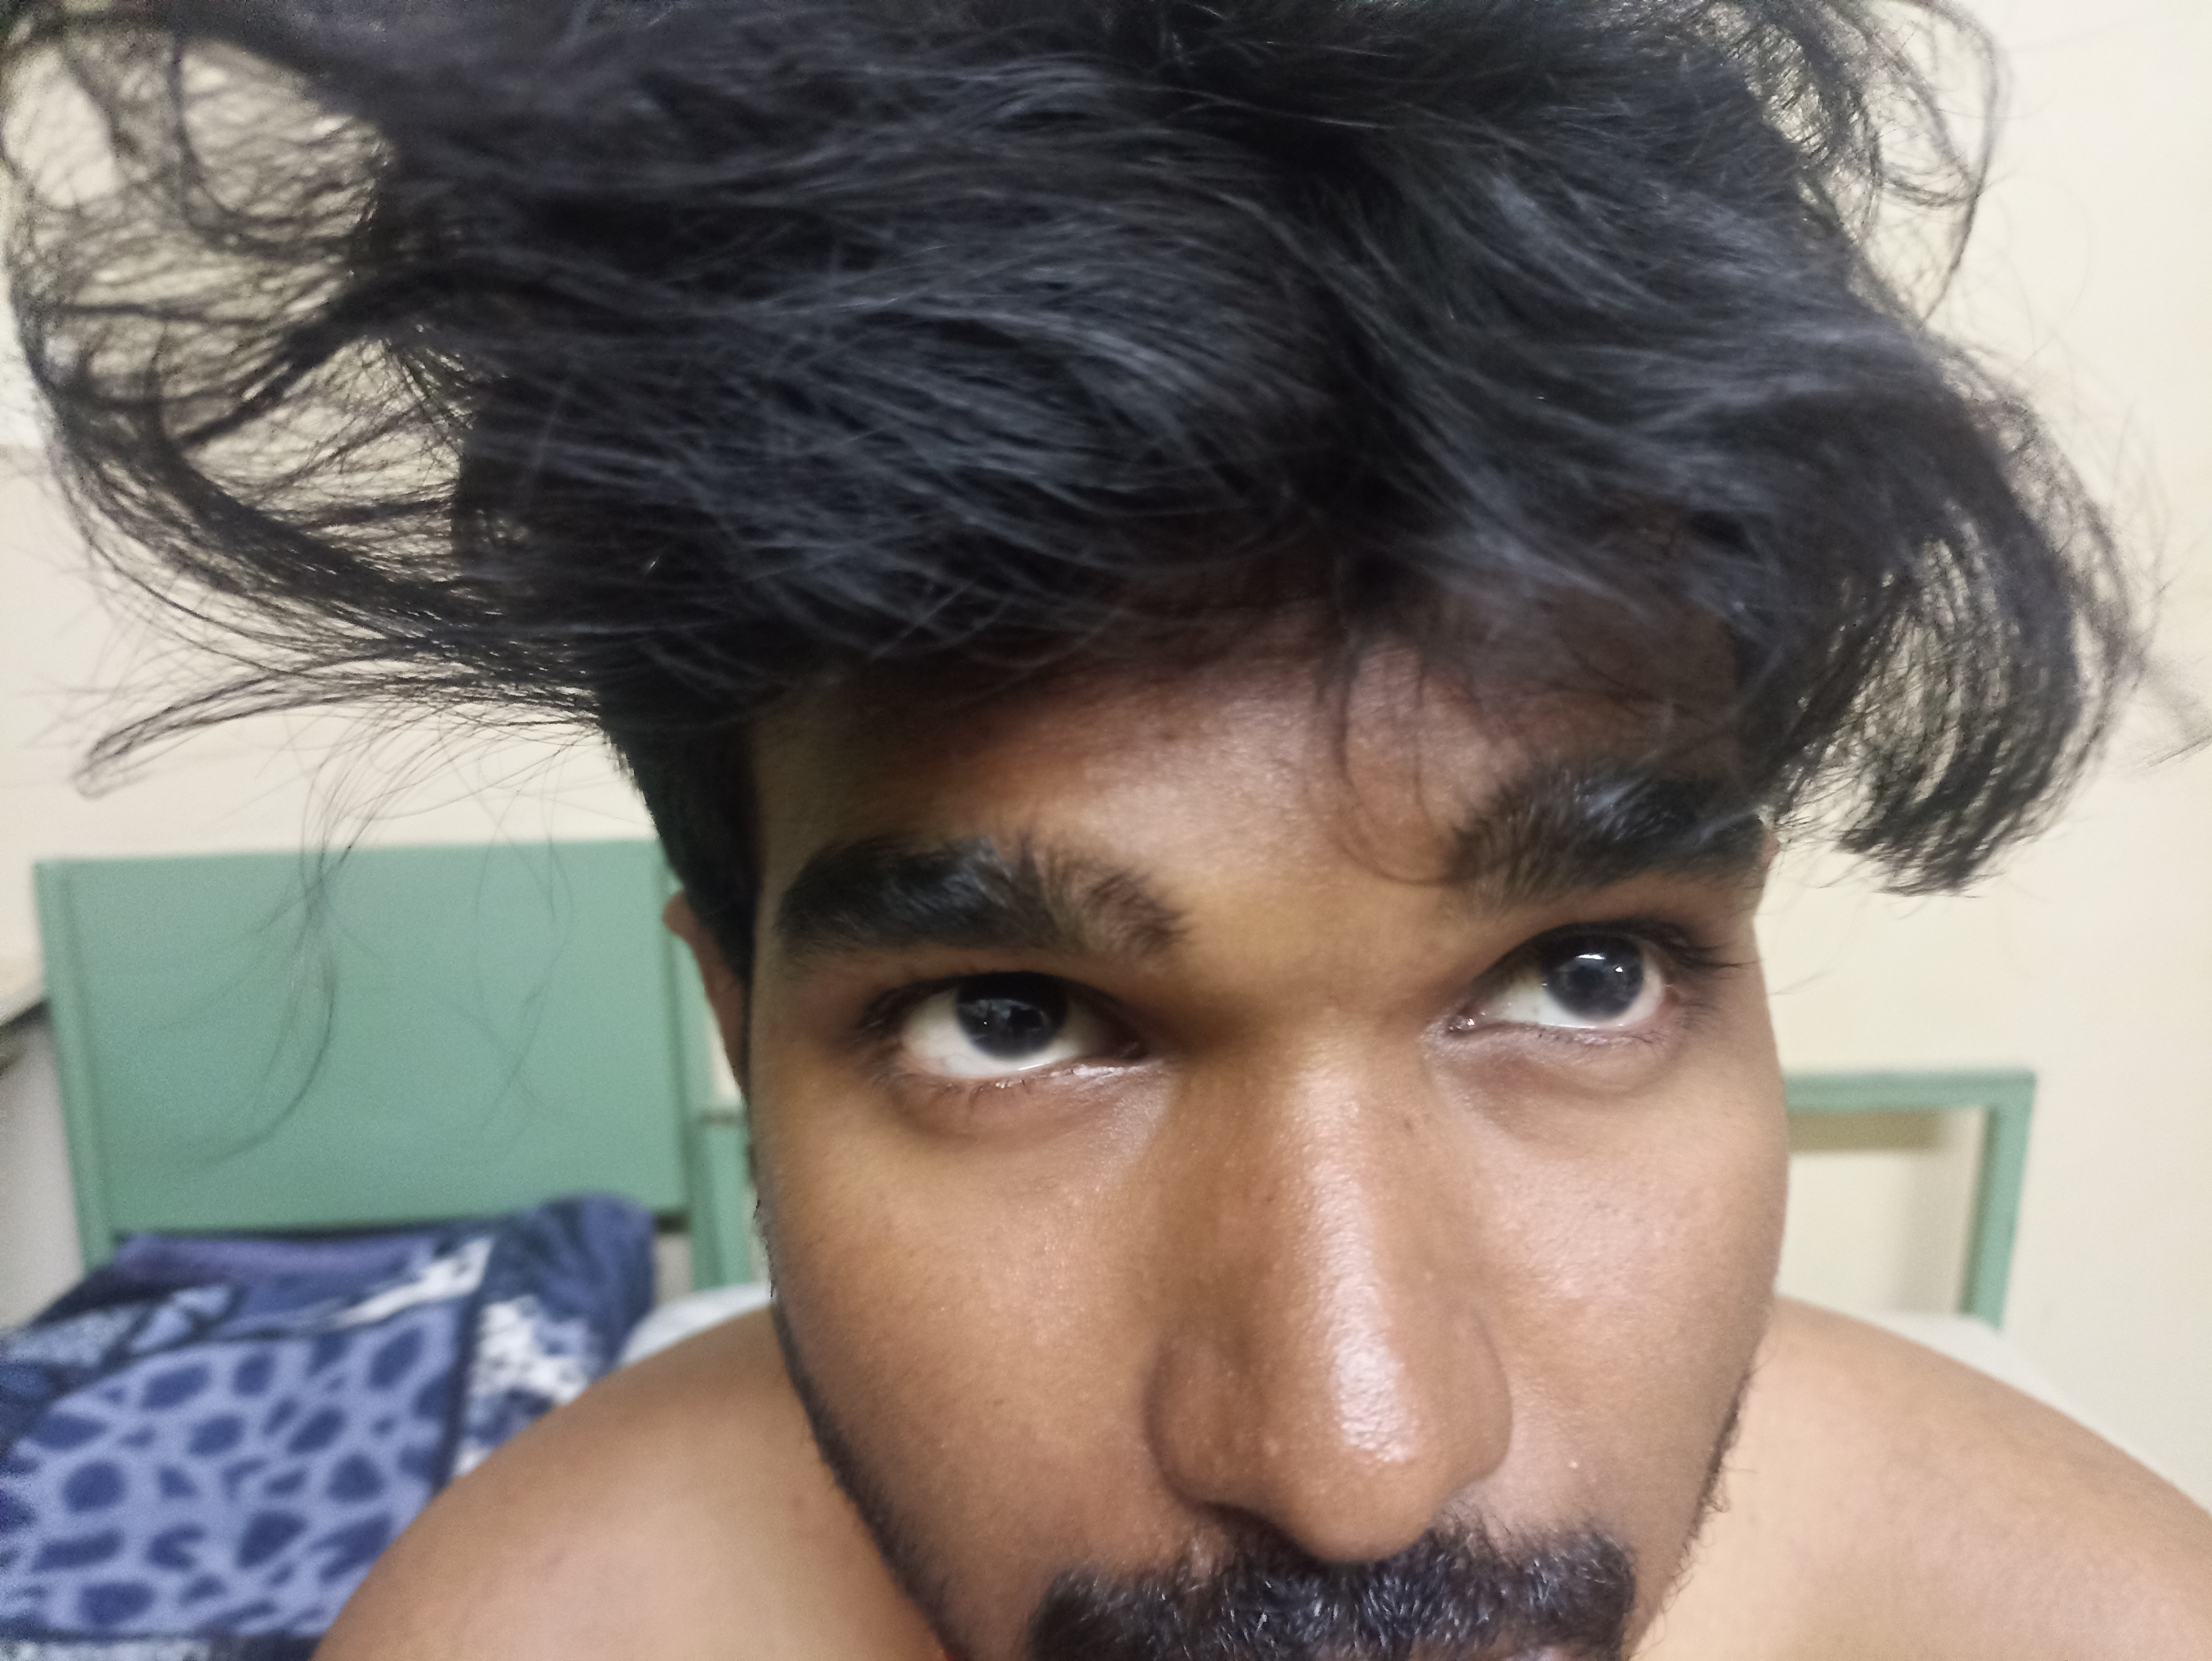EYE UP: (661, 806, 1298, 1261), (1401, 803, 1835, 1239)
